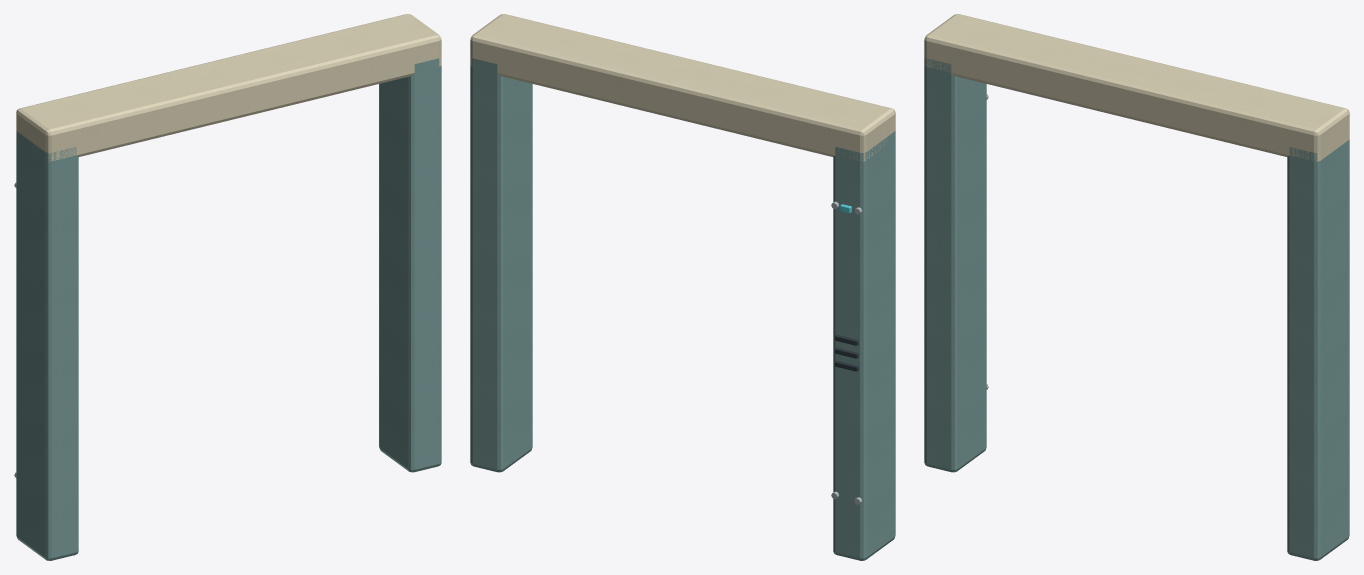
The model's file is blast_shutter_frame.glb.
The picture shows the model from 3 angles, left to right: view 1: azimuth 30°, elevation 25°; view 2: azimuth 150°, elevation 25°; view 3: azimuth 330°, elevation 25°; orthographic projection.
Parts seen in each view (by area): view 1: Root; view 2: Root; view 3: Root.
Boxes of the visible parts, x1,y1,x2,y2 form: Root: [14, 14, 441, 560]; Root: [470, 14, 895, 560]; Root: [924, 14, 1349, 560].
Bounding box in the file's own units: 2.4 × 2.5 × 0.3805.
Materials: 1 (1 with a texture image).
